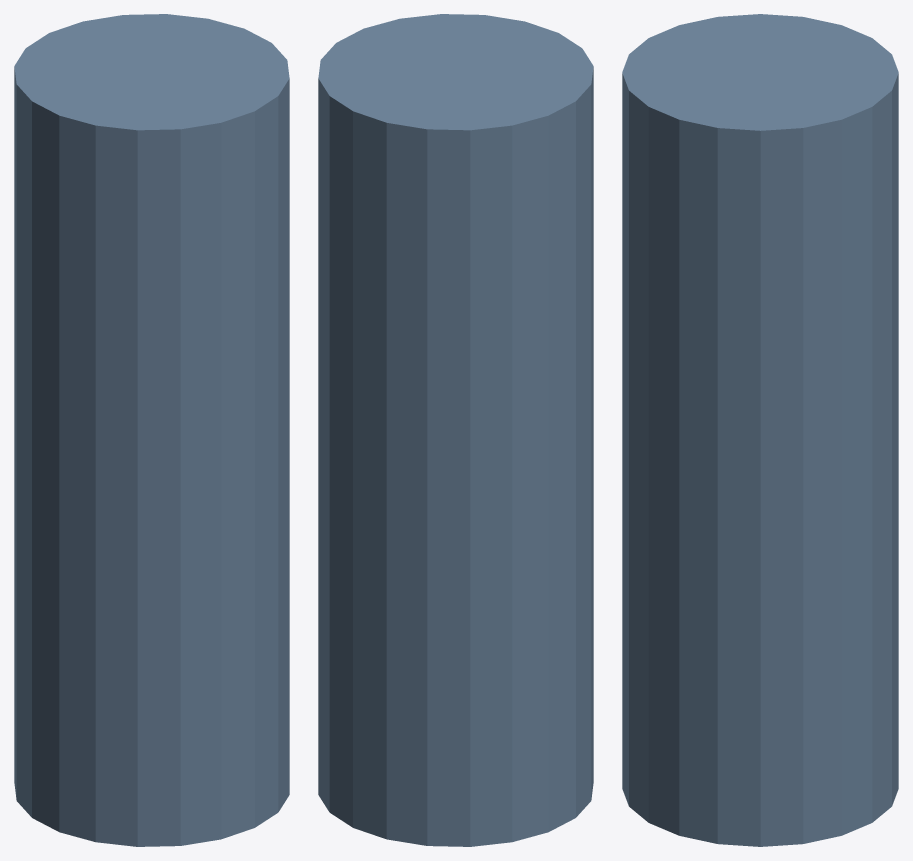
File: 103_L103_ViaRepair_1.fbx
The picture shows the model from 3 angles, left to right: view 1: azimuth 30°, elevation 25°; view 2: azimuth 150°, elevation 25°; view 3: azimuth 270°, elevation 25°; orthographic projection.
Parts seen in each view (by area): view 1: 103_L103_ViaRepair_1; view 2: 103_L103_ViaRepair_1; view 3: 103_L103_ViaRepair_1.
Boxes of the visible parts, left/top/right/bottom form: 103_L103_ViaRepair_1: left=14, top=14, right=289, bottom=846; 103_L103_ViaRepair_1: left=318, top=14, right=593, bottom=846; 103_L103_ViaRepair_1: left=622, top=14, right=898, bottom=846.
Bounding box in the file's own units: 0.14 × 0.4 × 0.14.
